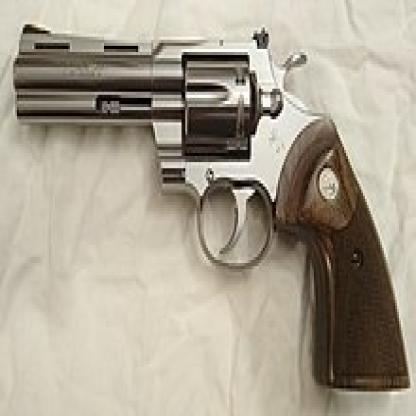handgun: (9, 19, 413, 398)
